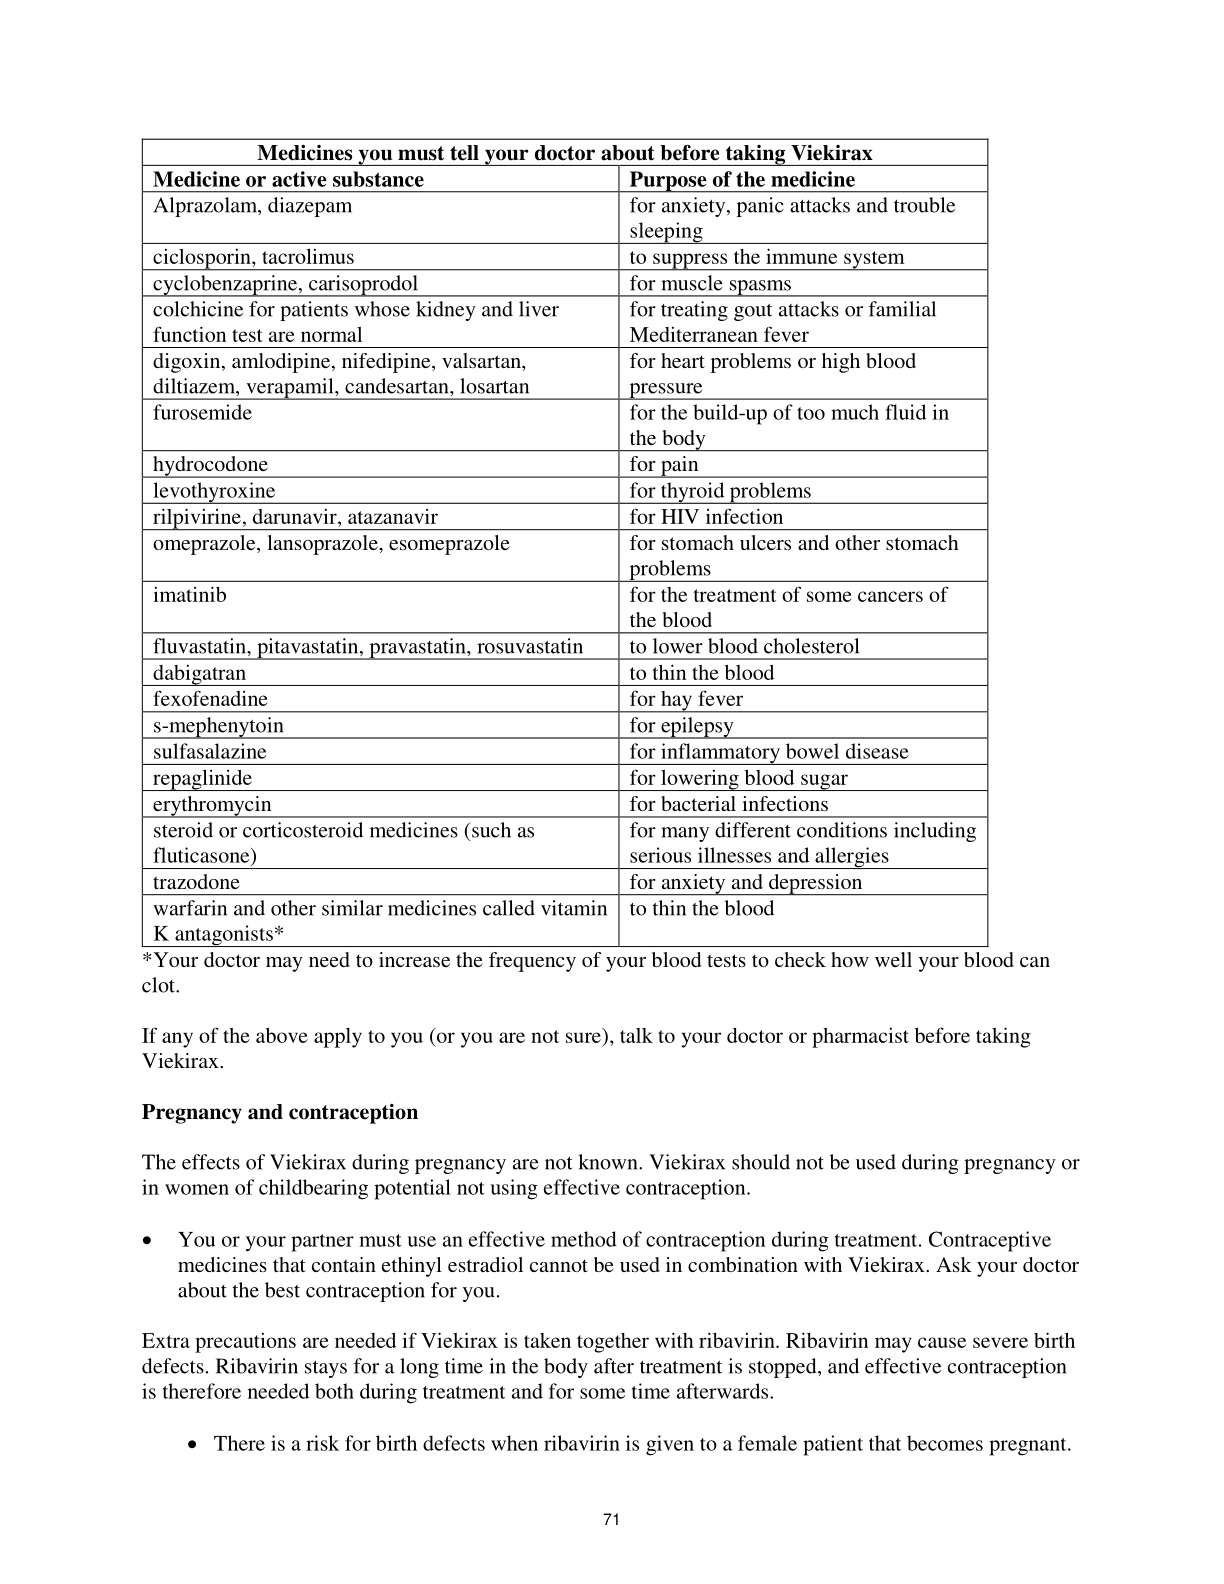merged_cells: (141, 138, 989, 948)
